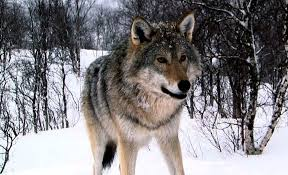Lobo: (83, 11, 200, 175)
